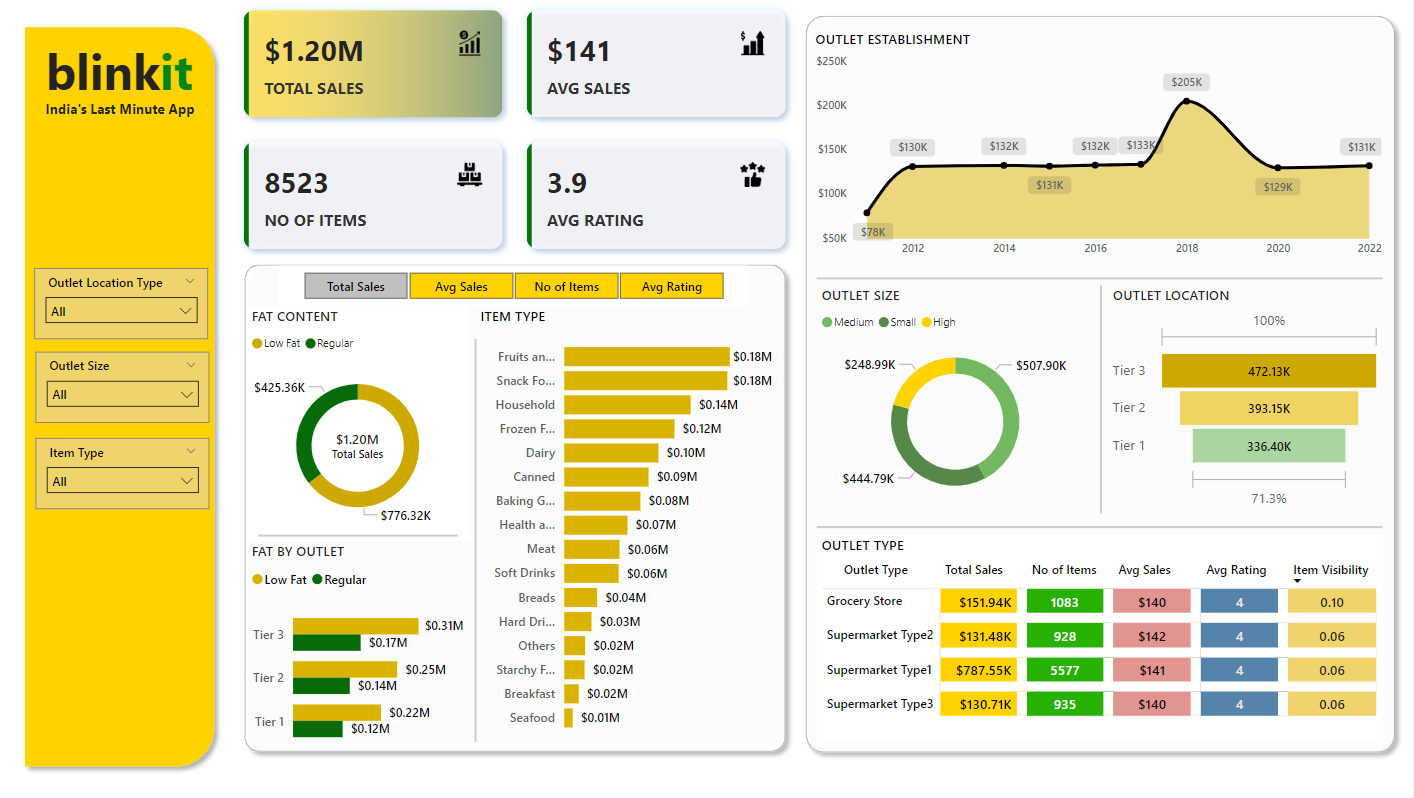

Layout of this report page (visuals, bound fields, positions):
{"tool":"powerbi","page":{"name":"Page 1","canvas":[1400,800],"ordinal":0},"visuals":[{"type":"shape","box":[17.7,24.5,205.9,749.8],"z":0},{"type":"textbox","box":[32.7,39.5,175.9,83.2],"z":1000},{"type":"textbox","box":[41.7,100,168.3,35],"z":2000},{"type":"cardVisual","fields":{"Data":["BlinkIT Grocery Data.Total Sales","BlinkIT Grocery Data.Avg Sales","BlinkIT Grocery Data.No of Items","BlinkIT Grocery Data.Avg Rating"]},"box":[226,0,570,270],"z":3000},{"type":"shape","box":[234.4,260,553.3,500],"z":4000},{"type":"donutChart","title":"FAT CONTENT","fields":{"Y":["BlinkIT Grocery Data.Total Sales"],"Category":["BlinkIT Grocery Data.Item Fat Content"]},"box":[245.7,310,220,230],"z":5000},{"type":"slicer","fields":{"Values":["Metrics.Metrics"]},"box":[277.5,270,465,40],"z":6000},{"type":"cardVisual","fields":{"Data":["BlinkIT Grocery Data.Total Sales","BlinkIT Grocery Data.Total Sales"]},"box":[306.7,411.1,98.9,72.2],"z":7000},{"type":"clusteredBarChart","title":"FAT BY OUTLET","fields":{"Y":["BlinkIT Grocery Data.Total Sales"],"Category":["BlinkIT Grocery Data.Outlet Location Type"],"Series":["BlinkIT Grocery Data.Item Fat Content"]},"box":[246.2,542.5,220,217.5],"z":8000},{"type":"shape","box":[257.5,530,197.5,12.5],"z":9000},{"type":"shape","box":[466.2,342.5,12.5,398.8],"z":9001},{"type":"barChart","title":"ITEM TYPE","fields":{"Category":["BlinkIT Grocery Data.Item Type"],"Y":["BlinkIT Grocery Data.Total Sales"]},"box":[472.5,310,298.8,431.2],"z":9002},{"type":"shape","box":[790,14,601,747],"z":9003},{"type":"lineChart","title":"OUTLET ESTABLISHMENT","fields":{"Y":["BlinkIT Grocery Data.Total Sales"],"Category":["BlinkIT Grocery Data.Outlet Establishment Year"]},"box":[804.4,35.6,570,234.4],"z":9004},{"type":"shape","box":[810,274.4,560,15.6],"z":9005},{"type":"donutChart","title":"OUTLET SIZE","fields":{"Y":["BlinkIT Grocery Data.Total Sales"],"Category":["BlinkIT Grocery Data.Outlet Size"]},"box":[810,290,274.4,224.4],"z":9006},{"type":"funnel","title":"OUTLET LOCATION","fields":{"Y":["Sum(BlinkIT Grocery Data.Sales)"],"Category":["BlinkIT Grocery Data.Outlet Location Type"]},"box":[1098.9,290,275.6,225.6],"z":9007},{"type":"shape","box":[1084.4,290,13.3,225.6],"z":9008},{"type":"shape","box":[810,521.1,560,15.6],"z":9009},{"type":"pivotTable","title":"OUTLET TYPE","fields":{"Rows":["BlinkIT Grocery Data.Outlet Type"],"Values":["BlinkIT Grocery Data.Total Sales","BlinkIT Grocery Data.No of Items","BlinkIT Grocery Data.Avg Sales","BlinkIT Grocery Data.Avg Rating","Avg(BlinkIT Grocery Data.Item Visibility)"]},"box":[810,536.7,560,204.4],"z":9010},{"type":"slicer","fields":{"Values":["BlinkIT Grocery Data.Outlet Location Type"]},"box":[35.6,272.2,172.2,70],"z":9011},{"type":"slicer","fields":{"Values":["BlinkIT Grocery Data.Outlet Size"]},"box":[36.7,355.6,172.2,70],"z":9012},{"type":"slicer","fields":{"Values":["BlinkIT Grocery Data.Item Type"]},"box":[36.7,440,172.2,70],"z":9013}]}

Visuals, with their boxes in screenshot pixels (x1, y1, x2, y2), scaled from the page's 1400x800 canvas onto the 1414x798 screenshot:
shape: box(18, 24, 226, 772)
textbox: box(33, 39, 211, 122)
textbox: box(42, 100, 212, 135)
cardVisual - BlinkIT Grocery Data.Total Sales x BlinkIT Grocery Data.Avg Sales: box(228, 0, 804, 269)
shape: box(237, 259, 796, 758)
"FAT CONTENT" donutChart: box(248, 309, 470, 539)
slicer - Metrics.Metrics: box(280, 269, 750, 309)
cardVisual - BlinkIT Grocery Data.Total Sales x BlinkIT Grocery Data.Total Sales: box(310, 410, 410, 482)
"FAT BY OUTLET" clusteredBarChart: box(249, 541, 471, 758)
shape: box(260, 529, 460, 541)
shape: box(471, 342, 483, 739)
"ITEM TYPE" barChart: box(477, 309, 779, 739)
shape: box(798, 14, 1405, 759)
"OUTLET ESTABLISHMENT" lineChart: box(812, 36, 1388, 269)
shape: box(818, 274, 1384, 289)
"OUTLET SIZE" donutChart: box(818, 289, 1095, 513)
"OUTLET LOCATION" funnel: box(1110, 289, 1388, 514)
shape: box(1095, 289, 1109, 514)
shape: box(818, 520, 1384, 535)
"OUTLET TYPE" pivotTable: box(818, 535, 1384, 739)
slicer - BlinkIT Grocery Data.Outlet Location Type: box(36, 272, 210, 341)
slicer - BlinkIT Grocery Data.Outlet Size: box(37, 355, 211, 425)
slicer - BlinkIT Grocery Data.Item Type: box(37, 439, 211, 509)
